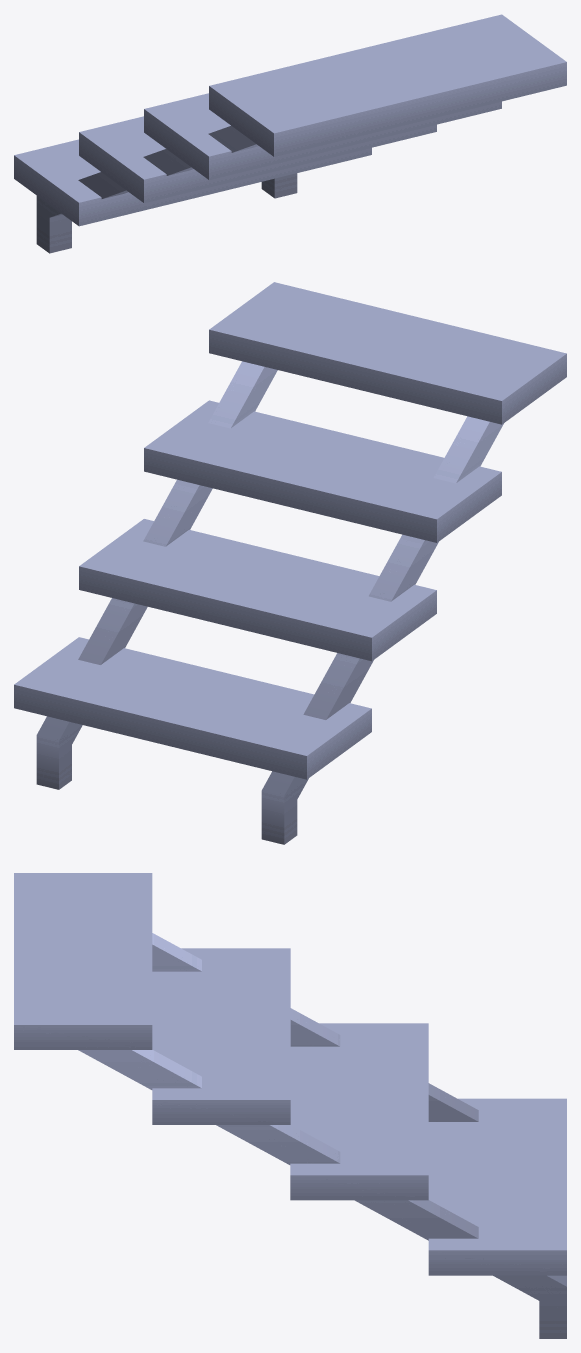
The model's file is stairs-open-short.glb.
3 views of the same model, one above another, from view 1: azimuth 30°, elevation 25°; view 2: azimuth 150°, elevation 25°; view 3: azimuth 270°, elevation 25° (orthographic). The views are drawn at different scales.
Visible parts, largest first — view 1: stairs-open-short; view 2: stairs-open-short; view 3: stairs-open-short.
Boxes of the visible parts, box(x1,y1,x2,y2) form: stairs-open-short: box(14, 14, 566, 253); stairs-open-short: box(14, 282, 566, 844); stairs-open-short: box(14, 873, 566, 1338).
Size of the model in its own units: 1.3 by 1.3 by 2.
1 material, 1 textured.
